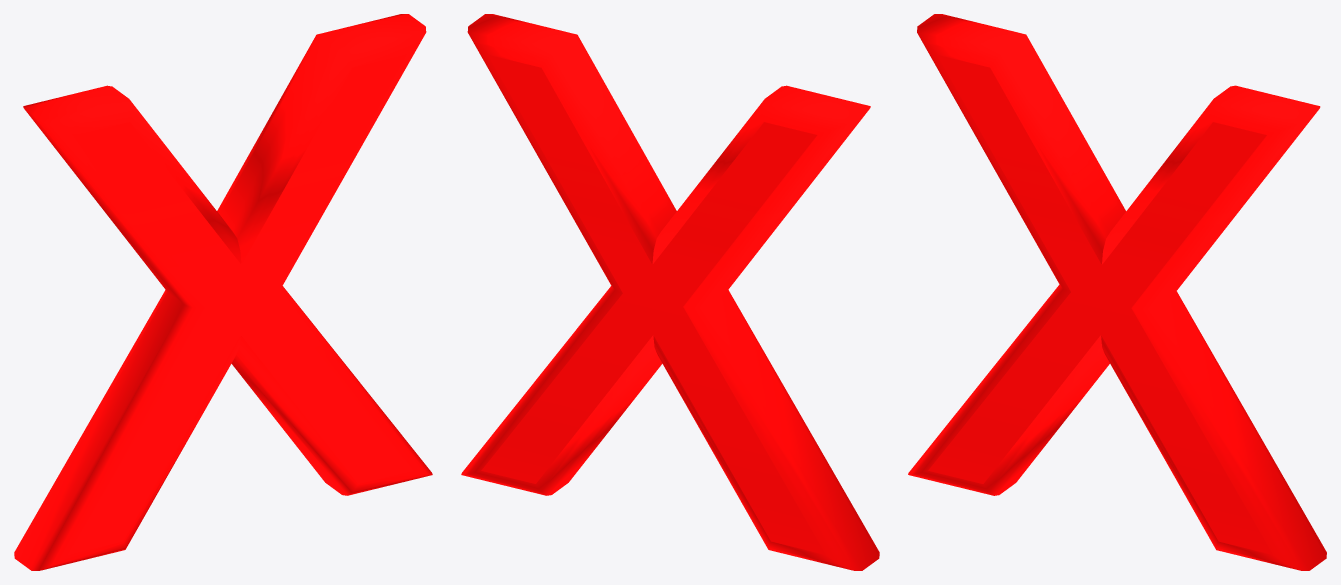
Rendered from 11282915-3194-4a0e-bce6-667bba399180.glb.
3 renders of one model, left to right at view 1: azimuth 30°, elevation 25°; view 2: azimuth 150°, elevation 25°; view 3: azimuth 330°, elevation 25°, orthographic.
Visible parts, largest first — view 1: IndicatorXRed; view 2: IndicatorXRed; view 3: IndicatorXRed.
Part boxes in pixels (x1,y1,x2,y2): IndicatorXRed: [14, 14, 432, 570]; IndicatorXRed: [461, 14, 879, 570]; IndicatorXRed: [908, 14, 1326, 570].
Bounding box in the file's own units: 0.4438 × 0.4743 × 0.0645.
Materials: 1 (1 with a texture image).
